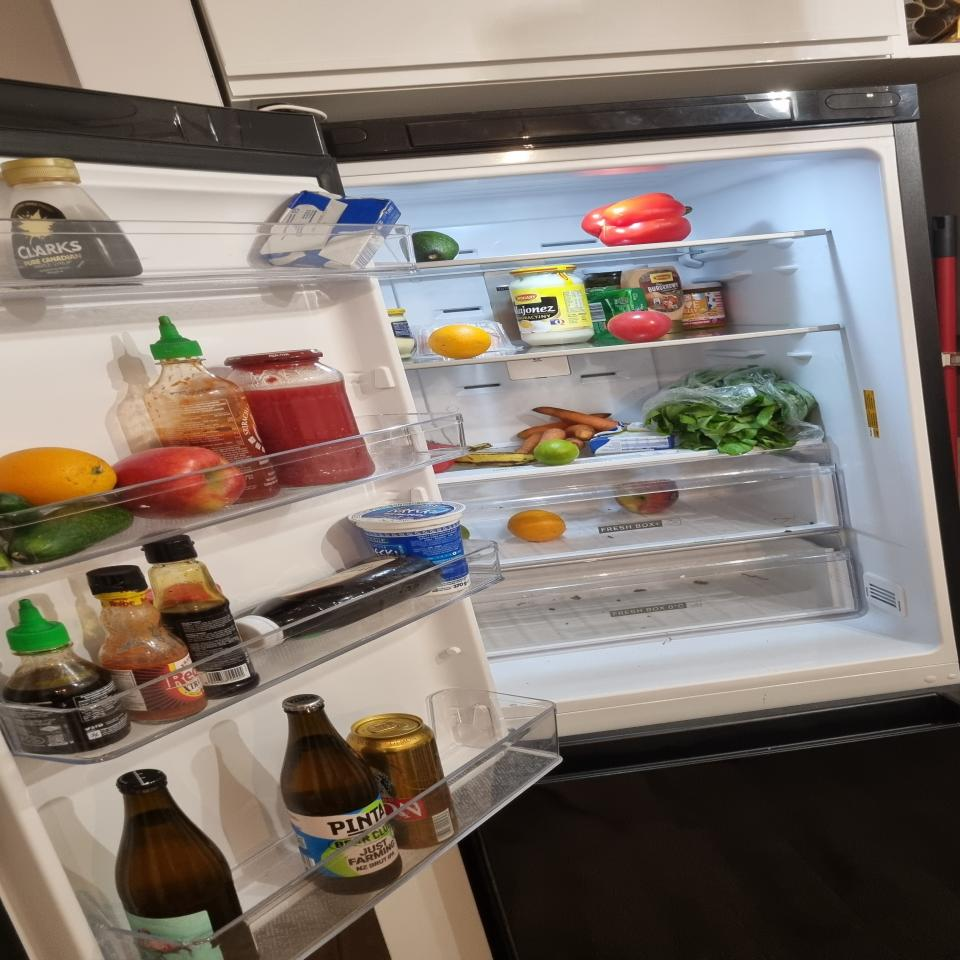Aguacate: (400, 231, 460, 262)
Lechuga/Endivia: (643, 364, 816, 456)
Mantequilla: (259, 190, 402, 270), (588, 288, 646, 339), (590, 422, 674, 454)
Manzana: (111, 446, 245, 520), (614, 479, 678, 514)
Pepino: (0, 492, 133, 569)
Plátano: (455, 443, 535, 467)
Tomate: (607, 309, 673, 342), (426, 440, 456, 474)
Yogur: (347, 500, 472, 595)
Zanahoria: (513, 407, 630, 454)
